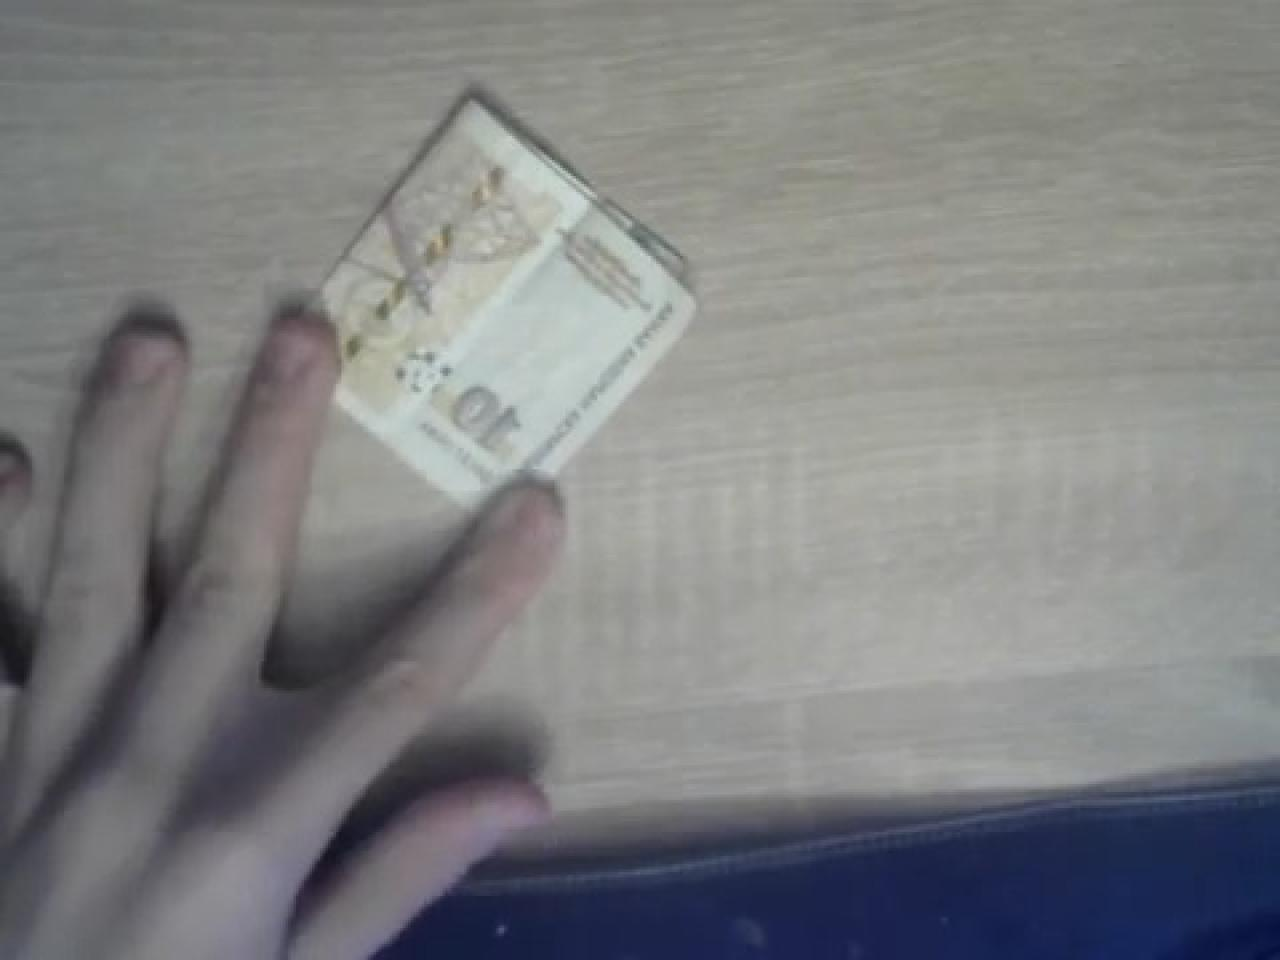10leva: (314, 93, 696, 519)
